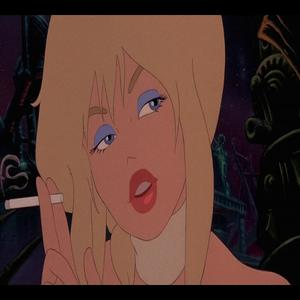cigarette: (2, 193, 66, 211)
